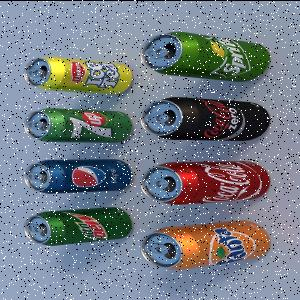Can: (140, 219, 273, 272), (140, 30, 273, 82), (140, 157, 276, 207), (140, 97, 272, 143), (24, 207, 136, 247), (24, 56, 136, 96), (24, 108, 135, 144), (25, 159, 135, 195)
